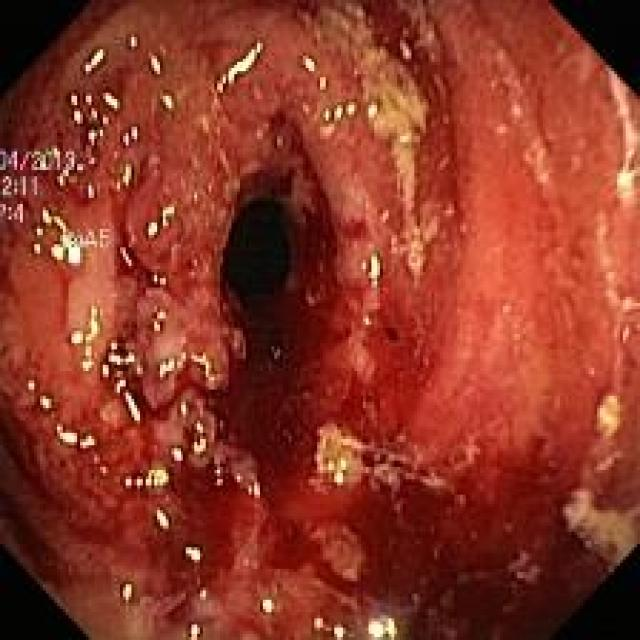ulcerative-colitis-grade-3: (2, 3, 640, 640)
